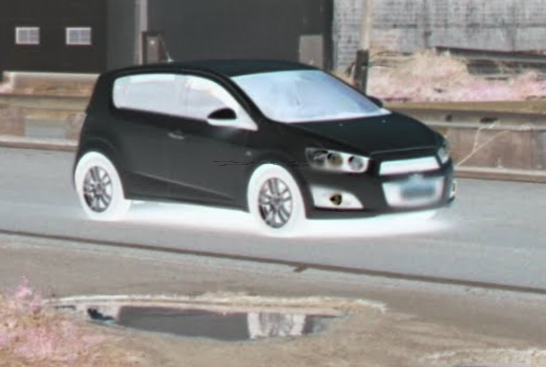car: (69, 32, 462, 236)
